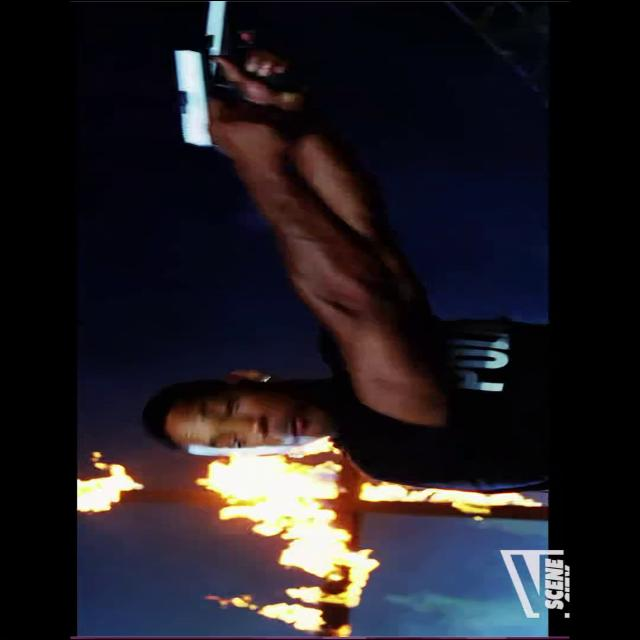weapons: (162, 42, 282, 156), (180, 2, 296, 93)
